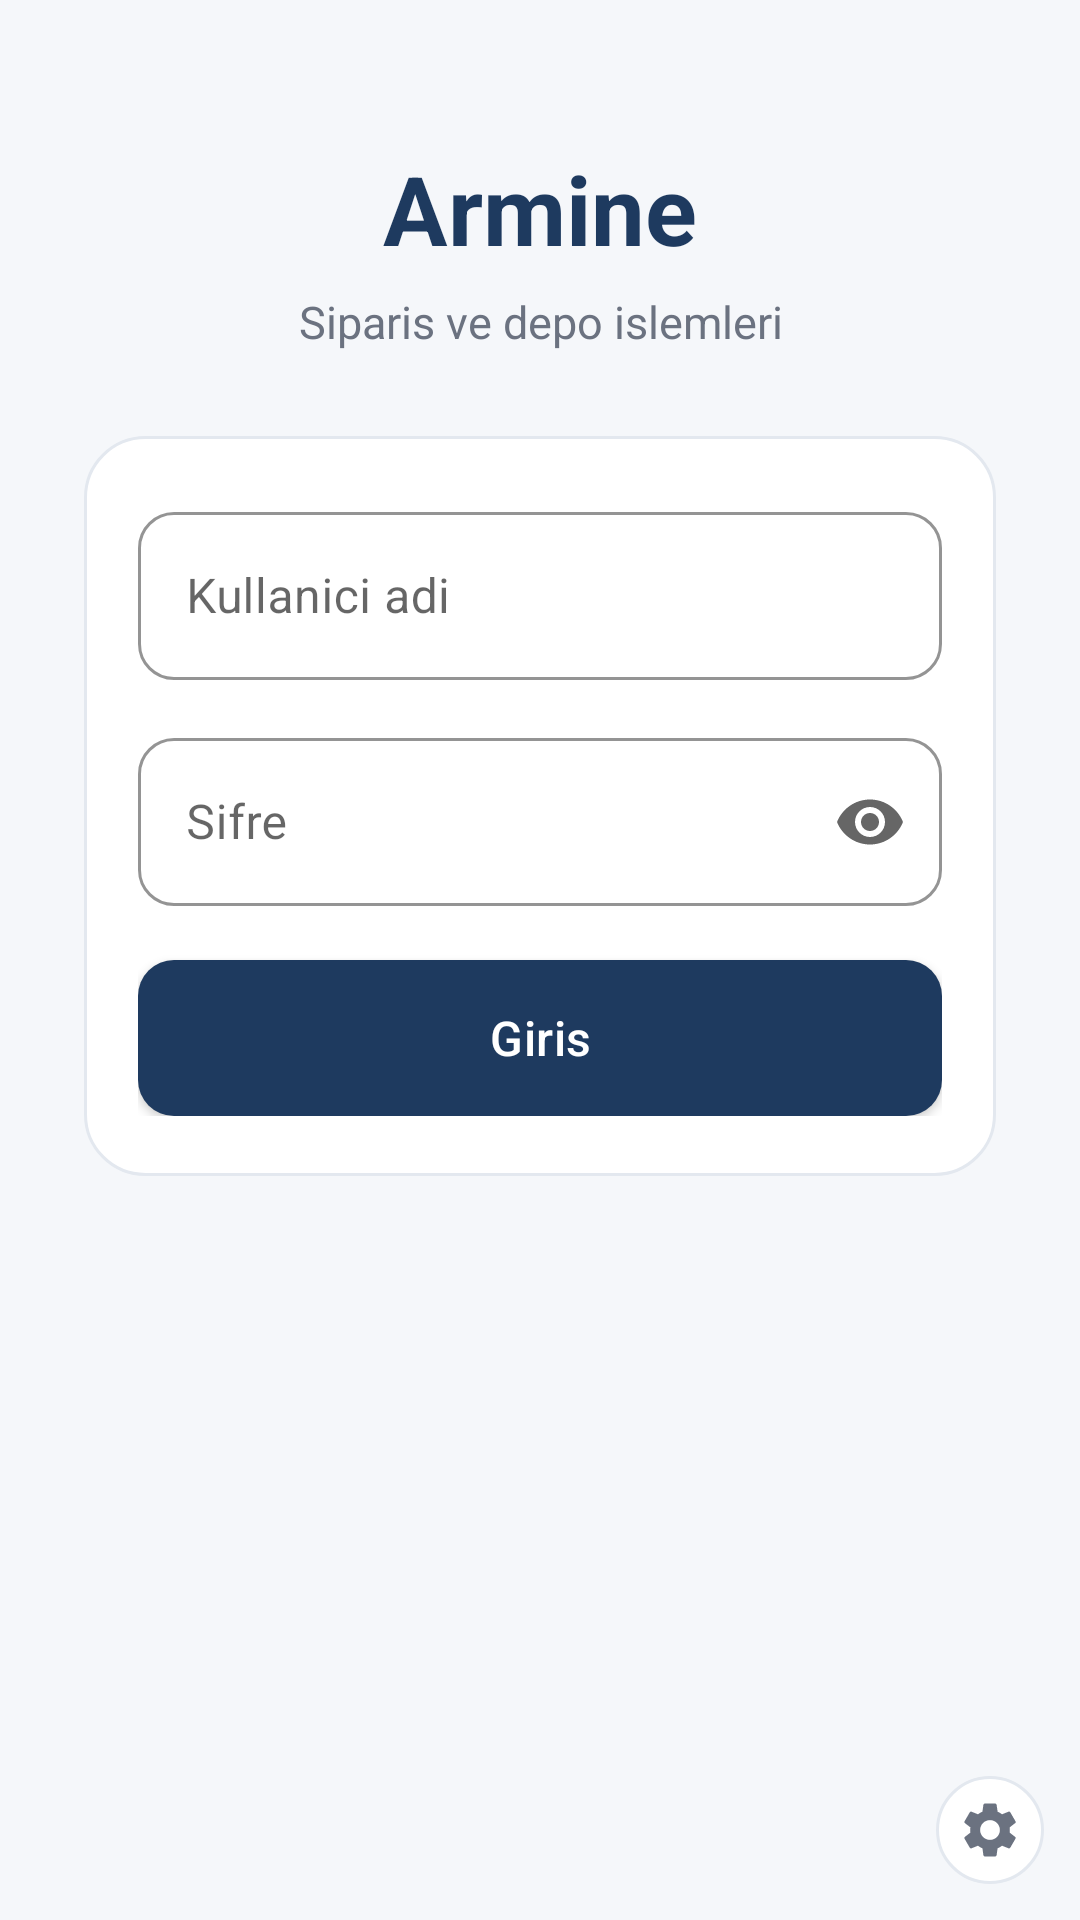

Point at icon controls on the screen. Image size 1080*1920, points as (x=x, y=y).
Server Ayarlari: (x=990, y=1830)
